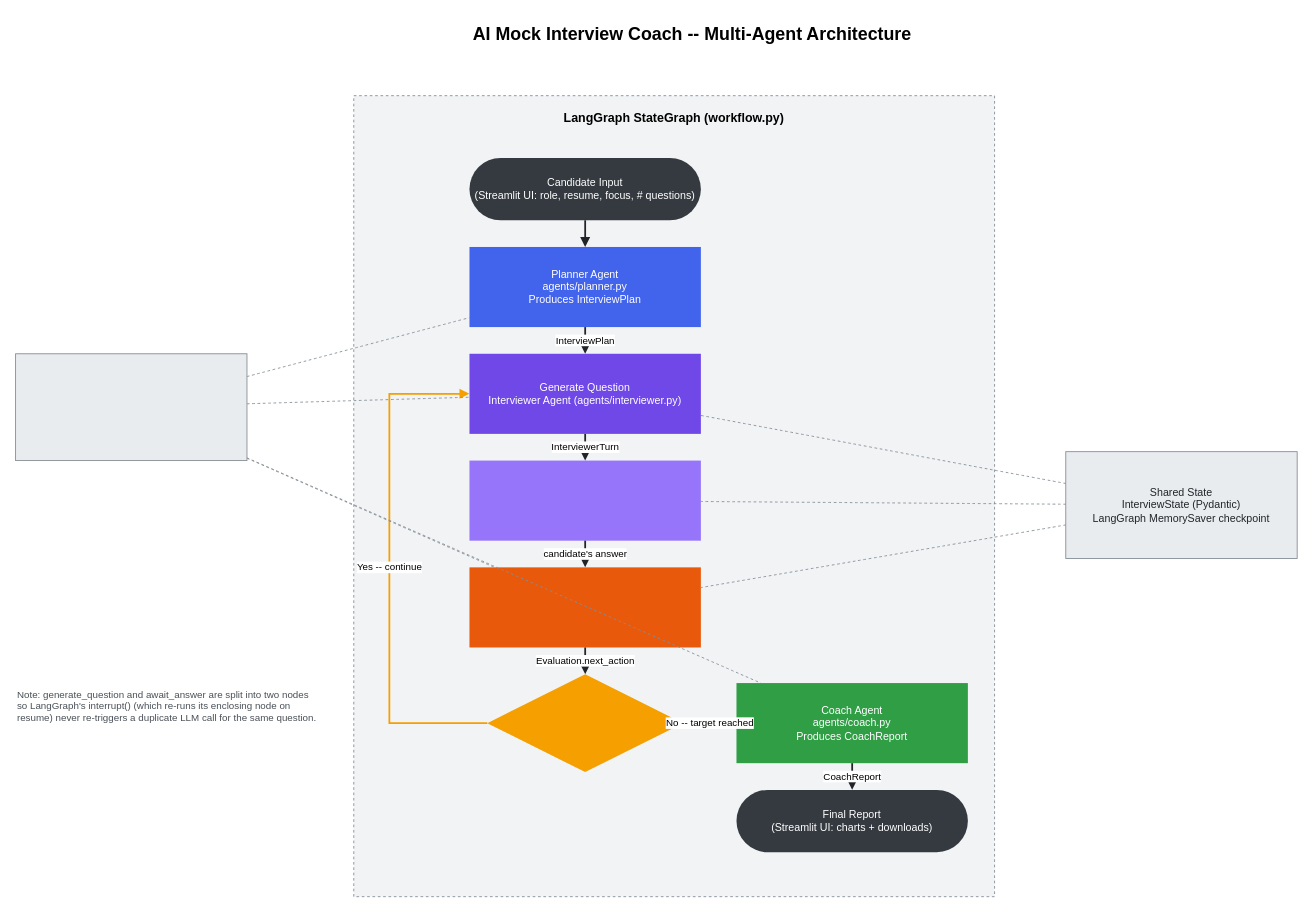
Image size: 1313x912. Some labels were removed from this diagram. Here are the shapes that lost their labels. From the top down, the centre of each, then its label:
(x=131, y=407): LLM Provider OpenAI or Groq via utils/llm.py + prompts/*.txt
(x=584, y=500): Await Answer interrupt() -- pauses for Streamlit UI
(x=584, y=607): Evaluate Answer Evaluator Agent (agents/evaluator.py)
(x=585, y=723): Should Continue?
